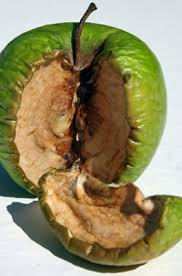damaged_apple: (3, 27, 162, 187), (29, 161, 180, 274)
